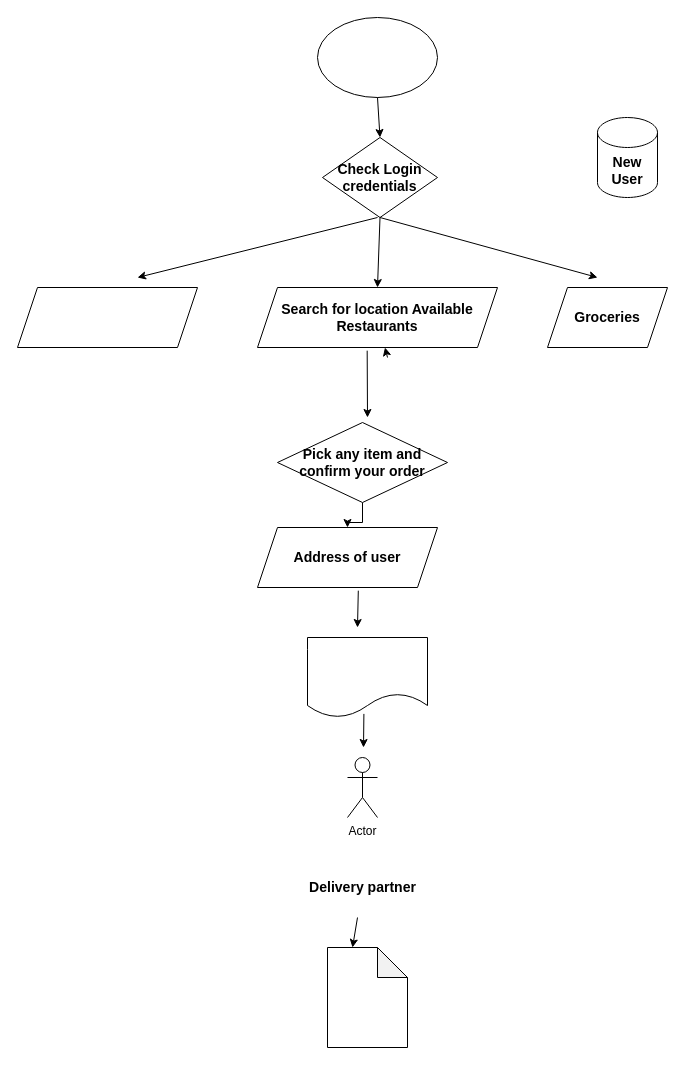
Some shapes in this 685 by 1065 pixel diagram are drawn without their labels. The centre of each missing label's shape, as x and y in pixels:
Feedback of food and delivery: (x=367, y=997)
Login: (x=377, y=57)
Online payment or payment bill: (x=367, y=677)
Starters/biryani's and special food items: (x=107, y=317)
